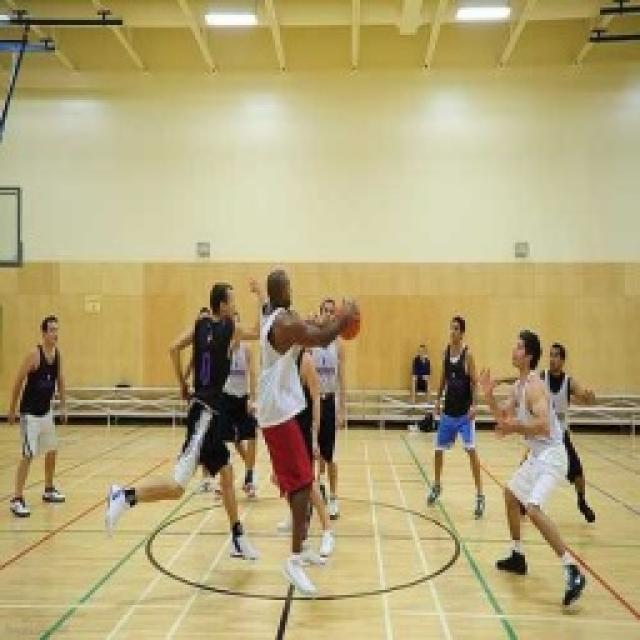rim: (330, 297, 368, 345)
